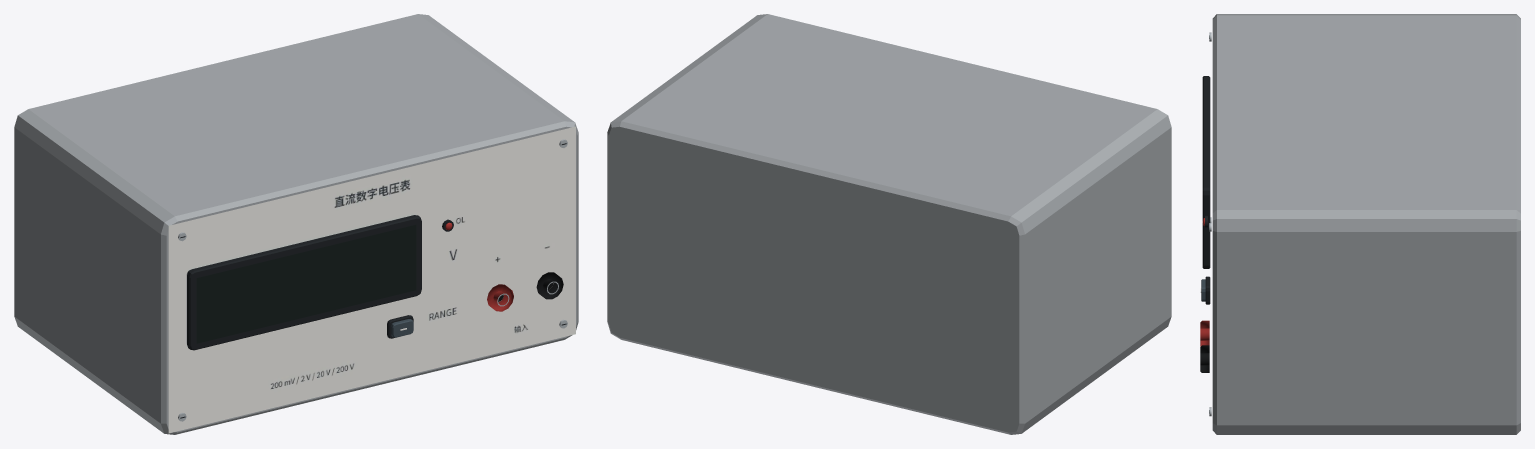
File: instrument.glb
3 views of the same model, side by side, from view 1: azimuth 30°, elevation 25°; view 2: azimuth 150°, elevation 25°; view 3: azimuth 270°, elevation 25° (orthographic). The views are drawn at different scales.
Visible parts, largest first — view 1: STATIC_paint, PANEL_silkscreen, DISPLAY_MAIN; view 2: STATIC_paint; view 3: STATIC_paint.
Boxes of the visible parts, x1,y1,x2,y2 form: STATIC_paint: [14, 14, 578, 434]; PANEL_silkscreen: [168, 126, 575, 433]; DISPLAY_MAIN: [196, 225, 416, 343]; STATIC_paint: [607, 14, 1171, 434]; STATIC_paint: [1200, 14, 1520, 434].
Bounding box in the file's own units: 0.16 × 0.08 × 0.104.
Materials: 6 (1 with a texture image).
